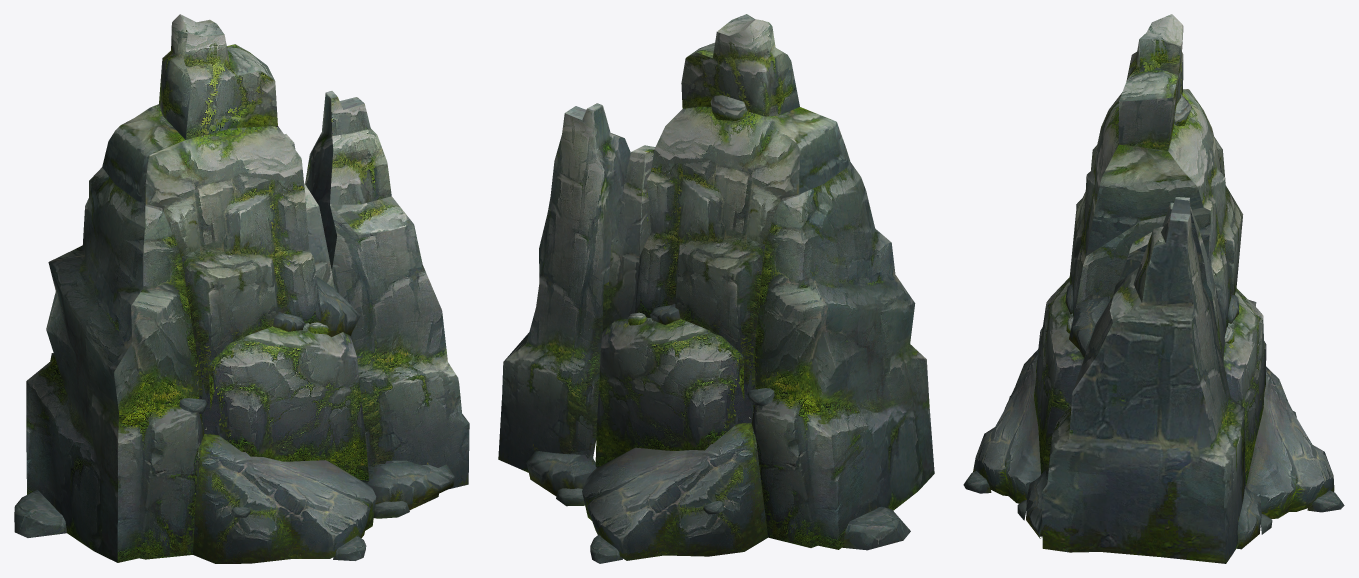
File: Mountain_1.FBX
The picture shows the model from 3 angles, left to right: view 1: azimuth 30°, elevation 25°; view 2: azimuth 150°, elevation 25°; view 3: azimuth 270°, elevation 25°; orthographic projection. The views are drawn at different scales.
Visible parts, largest first — view 1: Mountain_1; view 2: Mountain_1; view 3: Mountain_1.
Part boxes in pixels (x1,y1,x2,y2): Mountain_1: (14, 14, 469, 563); Mountain_1: (498, 14, 934, 563); Mountain_1: (963, 14, 1344, 563).
Bounding box in the file's own units: 14235 × 17410 × 13011.
